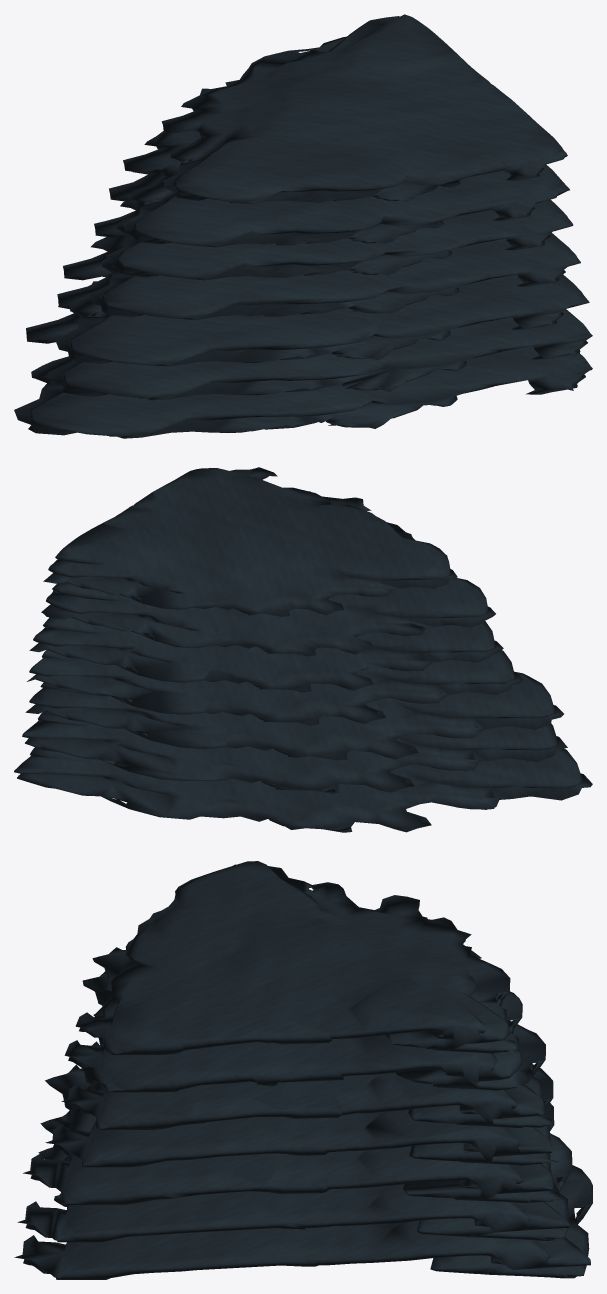
Rendered from slate-v0-worked-lod0.gltf.
3 renders of one model, top to bottom at view 1: azimuth 30°, elevation 25°; view 2: azimuth 150°, elevation 25°; view 3: azimuth 270°, elevation 25°, orthographic. The views are drawn at different scales.
Parts seen in each view (by area): view 1: slate-v0-worked-lod0; view 2: slate-v0-worked-lod0; view 3: slate-v0-worked-lod0.
Boxes of the visible parts, x1,y1,x2,y2 form: slate-v0-worked-lod0: [14, 14, 592, 438]; slate-v0-worked-lod0: [14, 467, 592, 832]; slate-v0-worked-lod0: [14, 861, 592, 1279].
Size of the model in its own units: 1.21 by 0.5291 by 1.09.
Materials: 1 (1 with a texture image).
